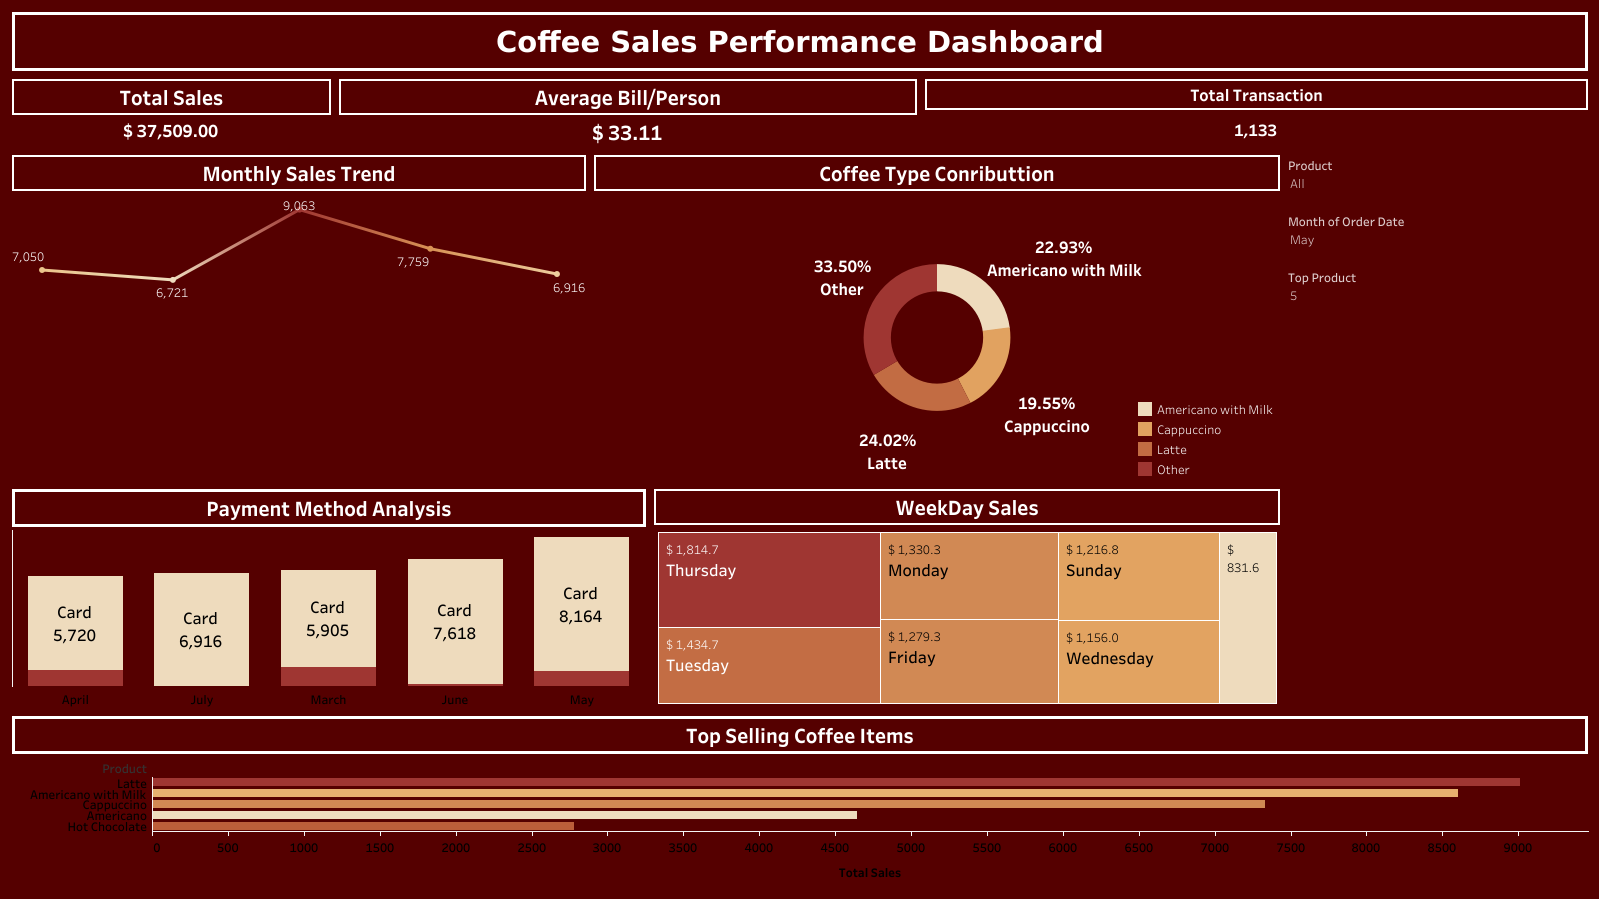

The page's visual inventory and layout, read from the dashboard file:
{"tool":"tableau","page":{"name":"Dashboard 2","canvas":[800,600],"ordinal":0},"visuals":[{"type":"filter","title":"Sales by Weekday ","param":"[federated.0tkluap175yl0n1bsfltz03n9rko].[none:cash_type:nk]","box":[8,8,112,60]},{"type":"title","box":[120,8,672,41]},{"type":"worksheet","title":"Total Sales","mark":"Automatic","box":[120,49,220,54]},{"type":"worksheet","title":"Total Orders","mark":"Automatic","box":[340,49,210,54]},{"type":"worksheet","title":"Avg Bill /person","mark":"Automatic","box":[550,49,210,54]},{"type":"filter","title":"Sales by Weekday ","param":"[federated.0tkluap175yl0n1bsfltz03n9rko].[mn:date:ok]","box":[8,68,112,52]},{"type":"worksheet","title":"Monthly Sales ","mark":"Automatic","box":[120,103,336,213.4]},{"type":"worksheet","title":"Payment Type Analysis","mark":"Bar","rows":["money"],"cols":["cash_type"],"box":[456,103,336,213.4]},{"type":"filter","title":"Payment Type Analysis","param":"[federated.0tkluap175yl0n1bsfltz03n9rko].[none:Calculation_4506132946248949761:n","box":[8,120,112,52]},{"type":"filter","title":"Monthly Sales ","param":"[federated.0tkluap175yl0n1bsfltz03n9rko].[none:coffee_name:nk]","box":[8,172,112,52]},{"type":"worksheet","title":"Sales by Weekday ","mark":"Pie","box":[120,316.4,319,275.6]},{"type":"worksheet","title":"Top Coffee Products","mark":"Automatic","rows":["coffee_name"],"cols":["money"],"box":[439,316.4,353,275.6]}]}

Visuals, with their boxes on the page's 800x600 design canvas (x1, y1, x2, y2). These are canvas units, not pixel positions in the 1599x899 screenshot, which may show the page scaled, cropped or inside an application window:
"Sales by Weekday " filter: box(8, 8, 120, 68)
title: box(120, 8, 792, 49)
"Total Sales" worksheet: box(120, 49, 340, 103)
"Total Orders" worksheet: box(340, 49, 550, 103)
"Avg Bill /person" worksheet: box(550, 49, 760, 103)
"Sales by Weekday " filter: box(8, 68, 120, 120)
"Monthly Sales " worksheet: box(120, 103, 456, 316)
"Payment Type Analysis" worksheet (Bar marks): box(456, 103, 792, 316)
"Payment Type Analysis" filter: box(8, 120, 120, 172)
"Monthly Sales " filter: box(8, 172, 120, 224)
"Sales by Weekday " worksheet (Pie marks): box(120, 316, 439, 592)
"Top Coffee Products" worksheet: box(439, 316, 792, 592)
